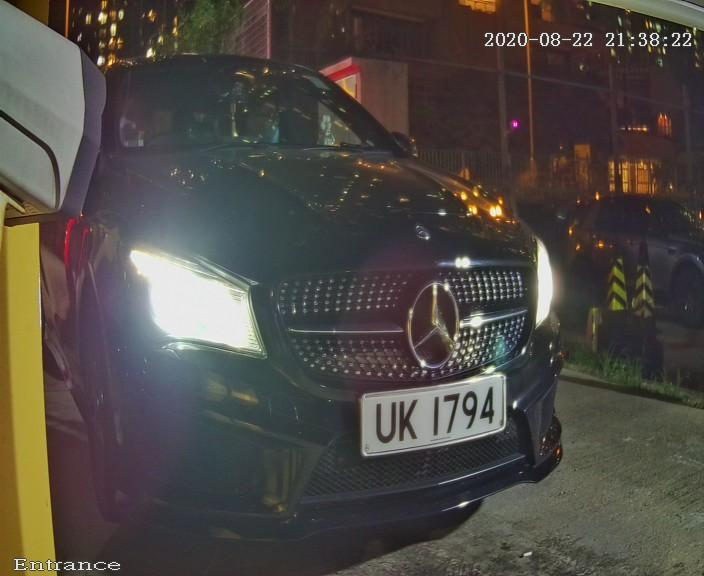Car: (16, 3, 623, 559)
License Plate: (338, 346, 519, 480)
